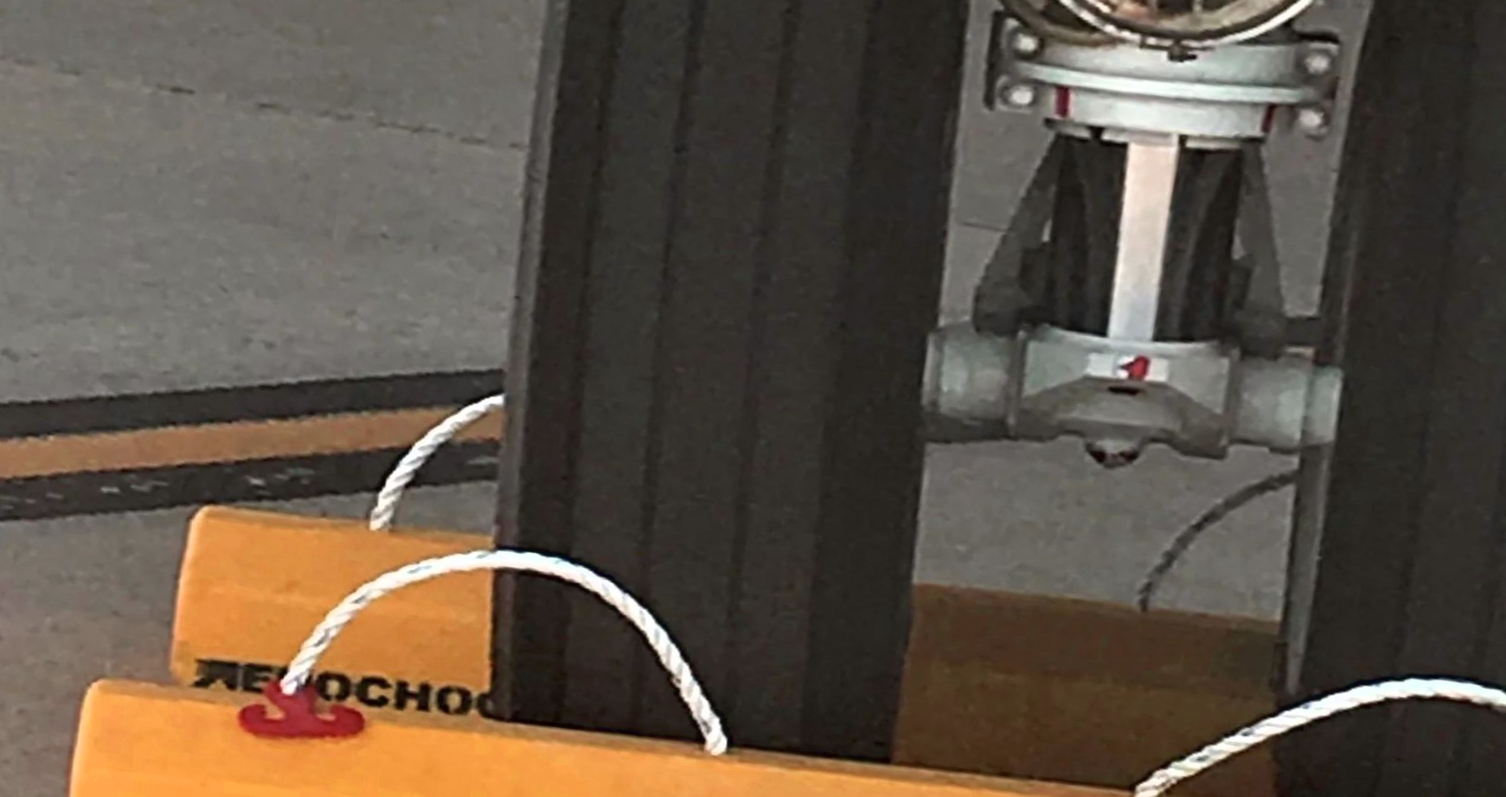chock: (150, 486, 1506, 797), (42, 641, 1506, 797)
wheel: (416, 0, 1032, 774), (1211, 0, 1506, 797)
